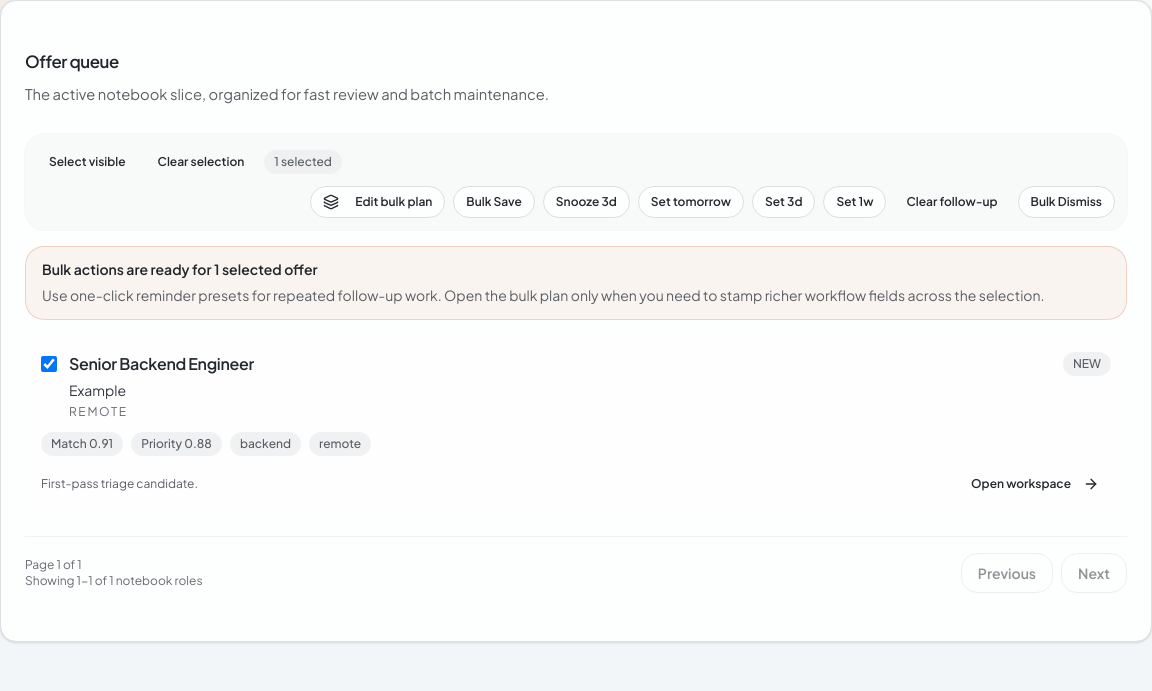
Test: NotebookOffersListCard › keeps the bulk follow-up editor hidden until the user asks for it
Expected: the field labelled "Bulk follow-up date" is not shown
Step 1. Click the button "Edit bulk plan" → (378, 202), box left=310, top=186, right=445, bottom=218
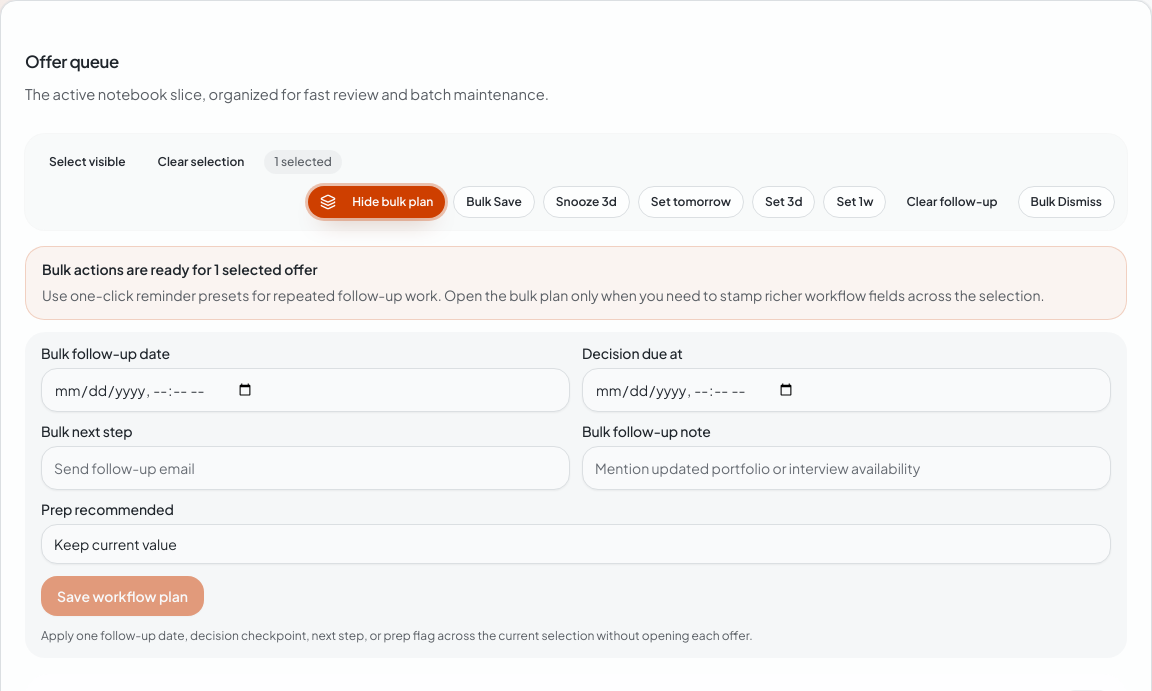
Expected: the text "Bulk actions are ready for 1 selected offer" is shown, left=42, top=260, right=318, bottom=278
Result: the field labelled "Bulk follow-up date" is shown at left=41, top=368, right=570, bottom=412
